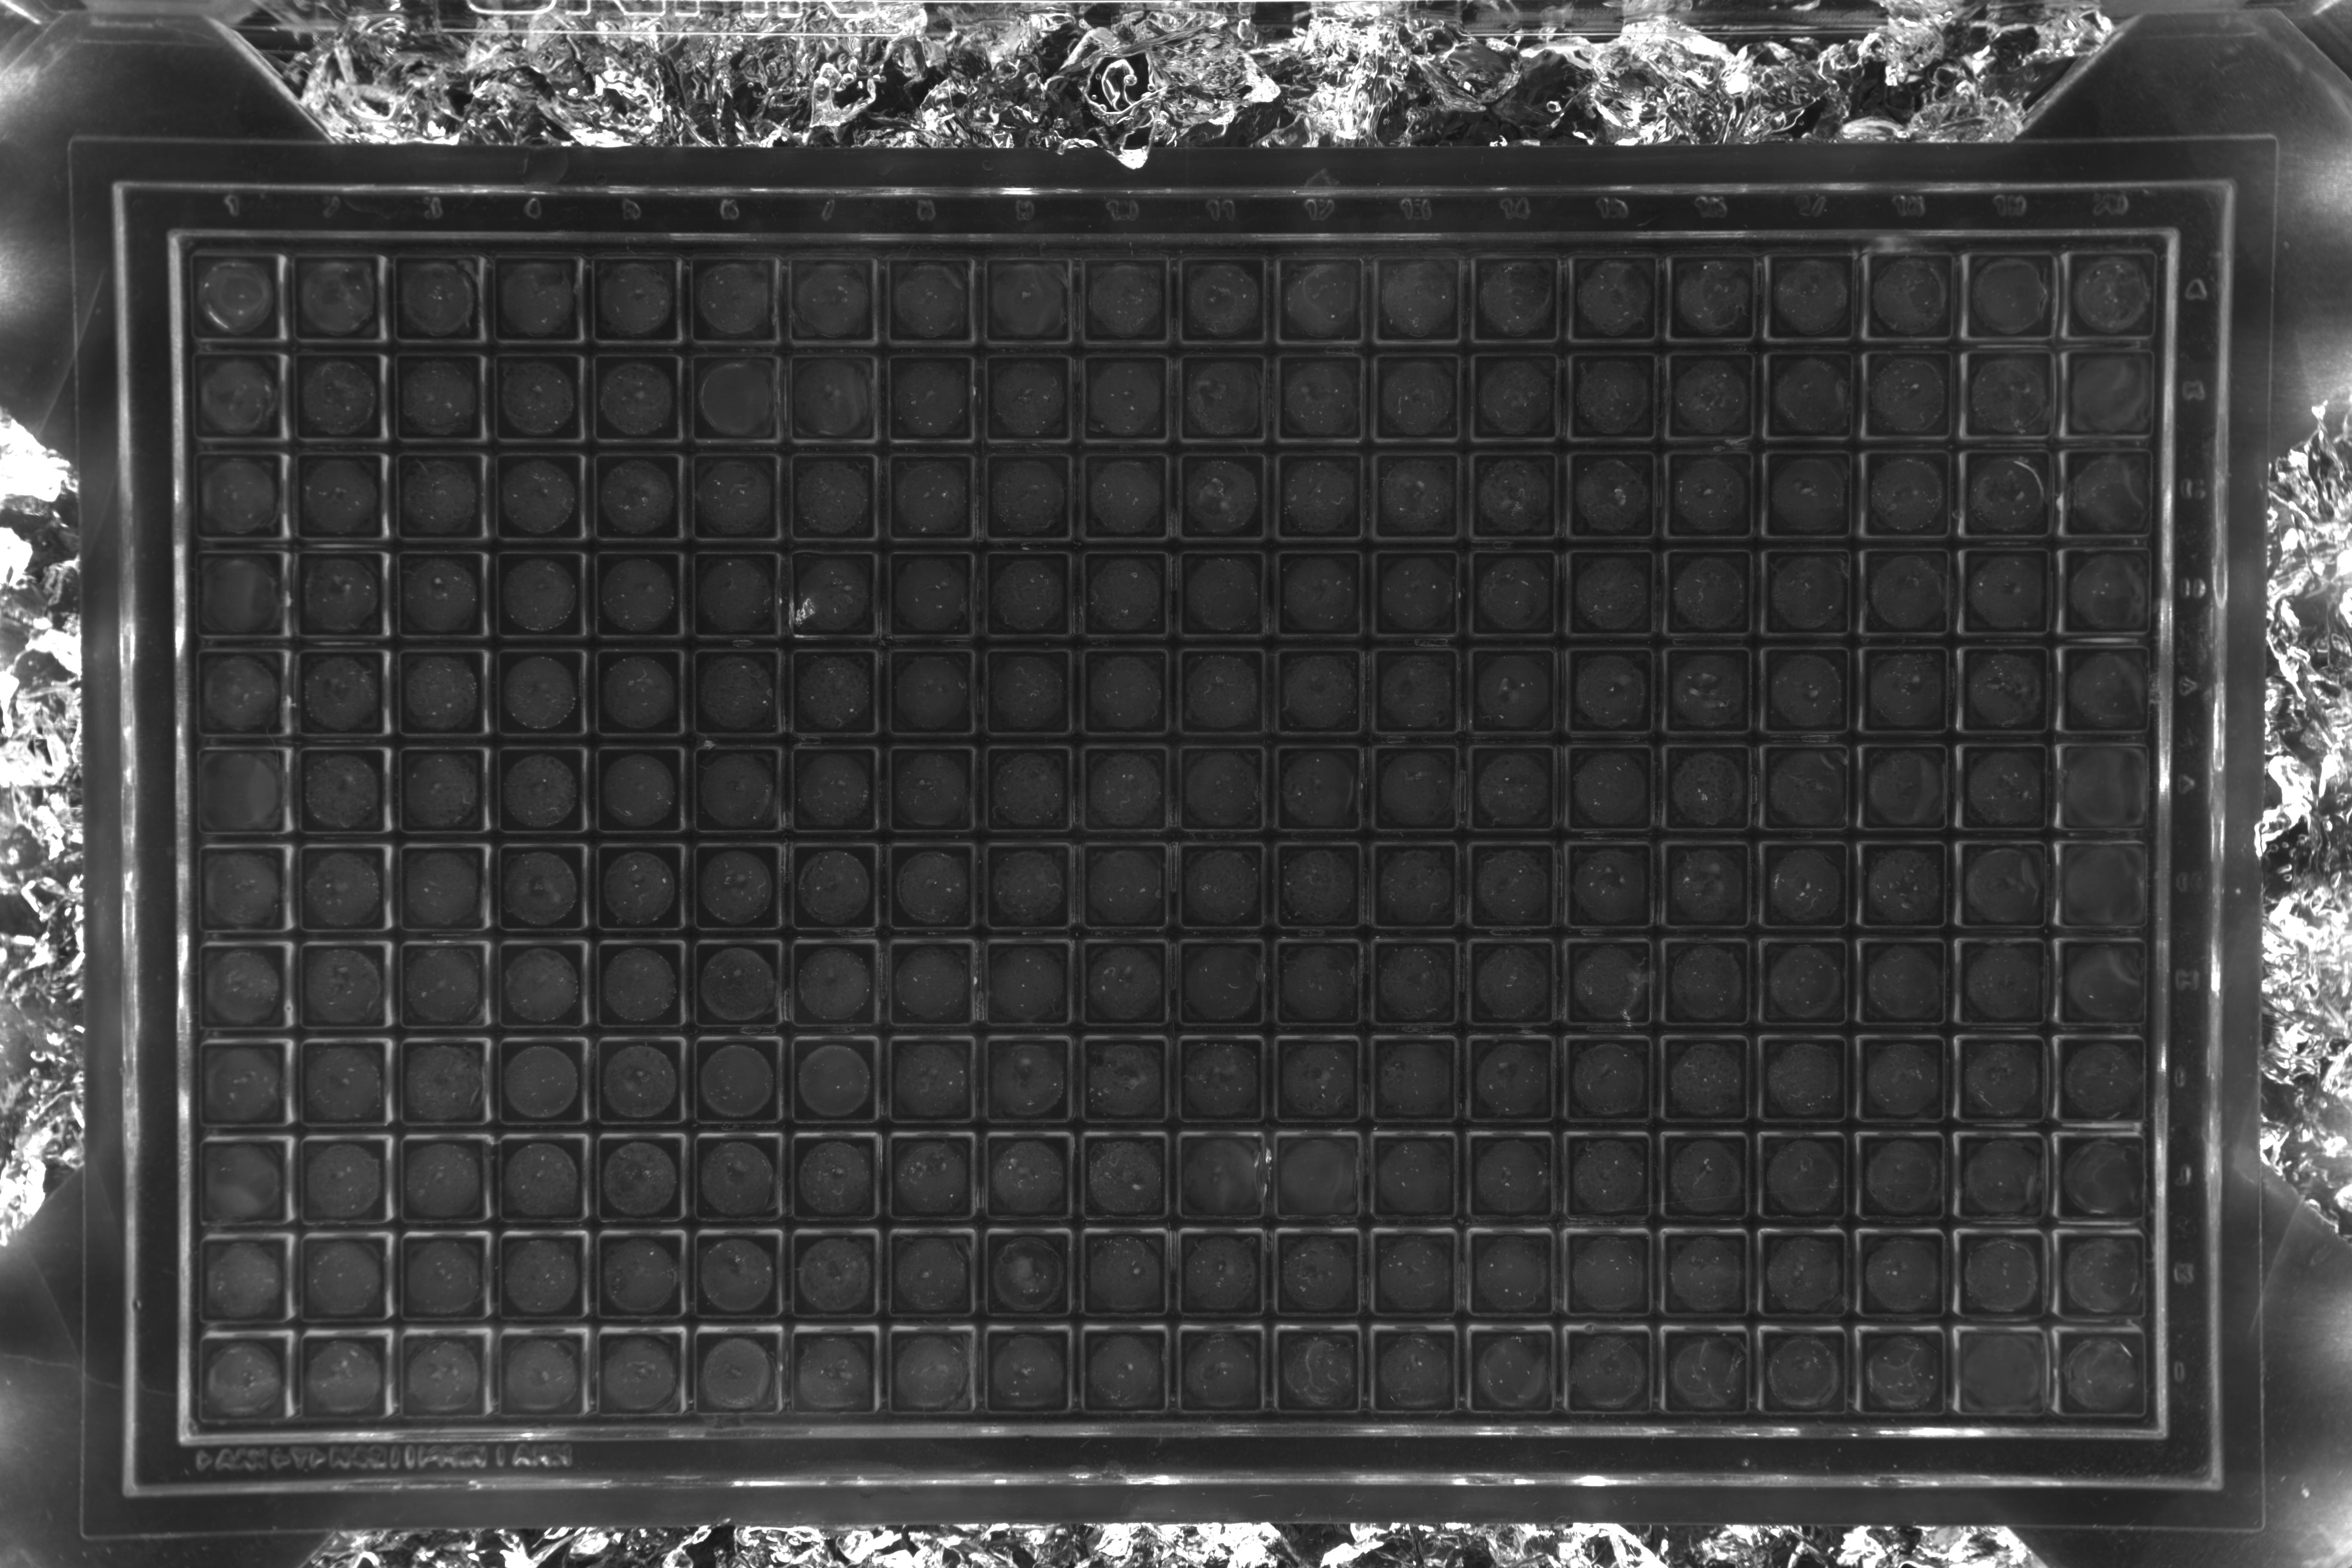WM_well: (395, 535, 485, 623), (492, 436, 581, 523), (497, 828, 586, 915), (1176, 1209, 1263, 1298), (2063, 128, 2152, 215), (199, 535, 287, 623), (205, 926, 292, 1013), (486, 140, 574, 227), (686, 240, 773, 327), (789, 728, 877, 815), (887, 1211, 975, 1298), (982, 436, 1069, 523), (983, 1017, 1071, 1104), (1176, 1017, 1263, 1104), (1176, 726, 1263, 814), (1274, 726, 1361, 814), (1466, 822, 1554, 910), (1470, 138, 1557, 226), (1561, 1211, 1648, 1298), (1661, 1115, 1748, 1202), (1764, 331, 1851, 418), (1958, 822, 2046, 910), (1960, 625, 2047, 712)
